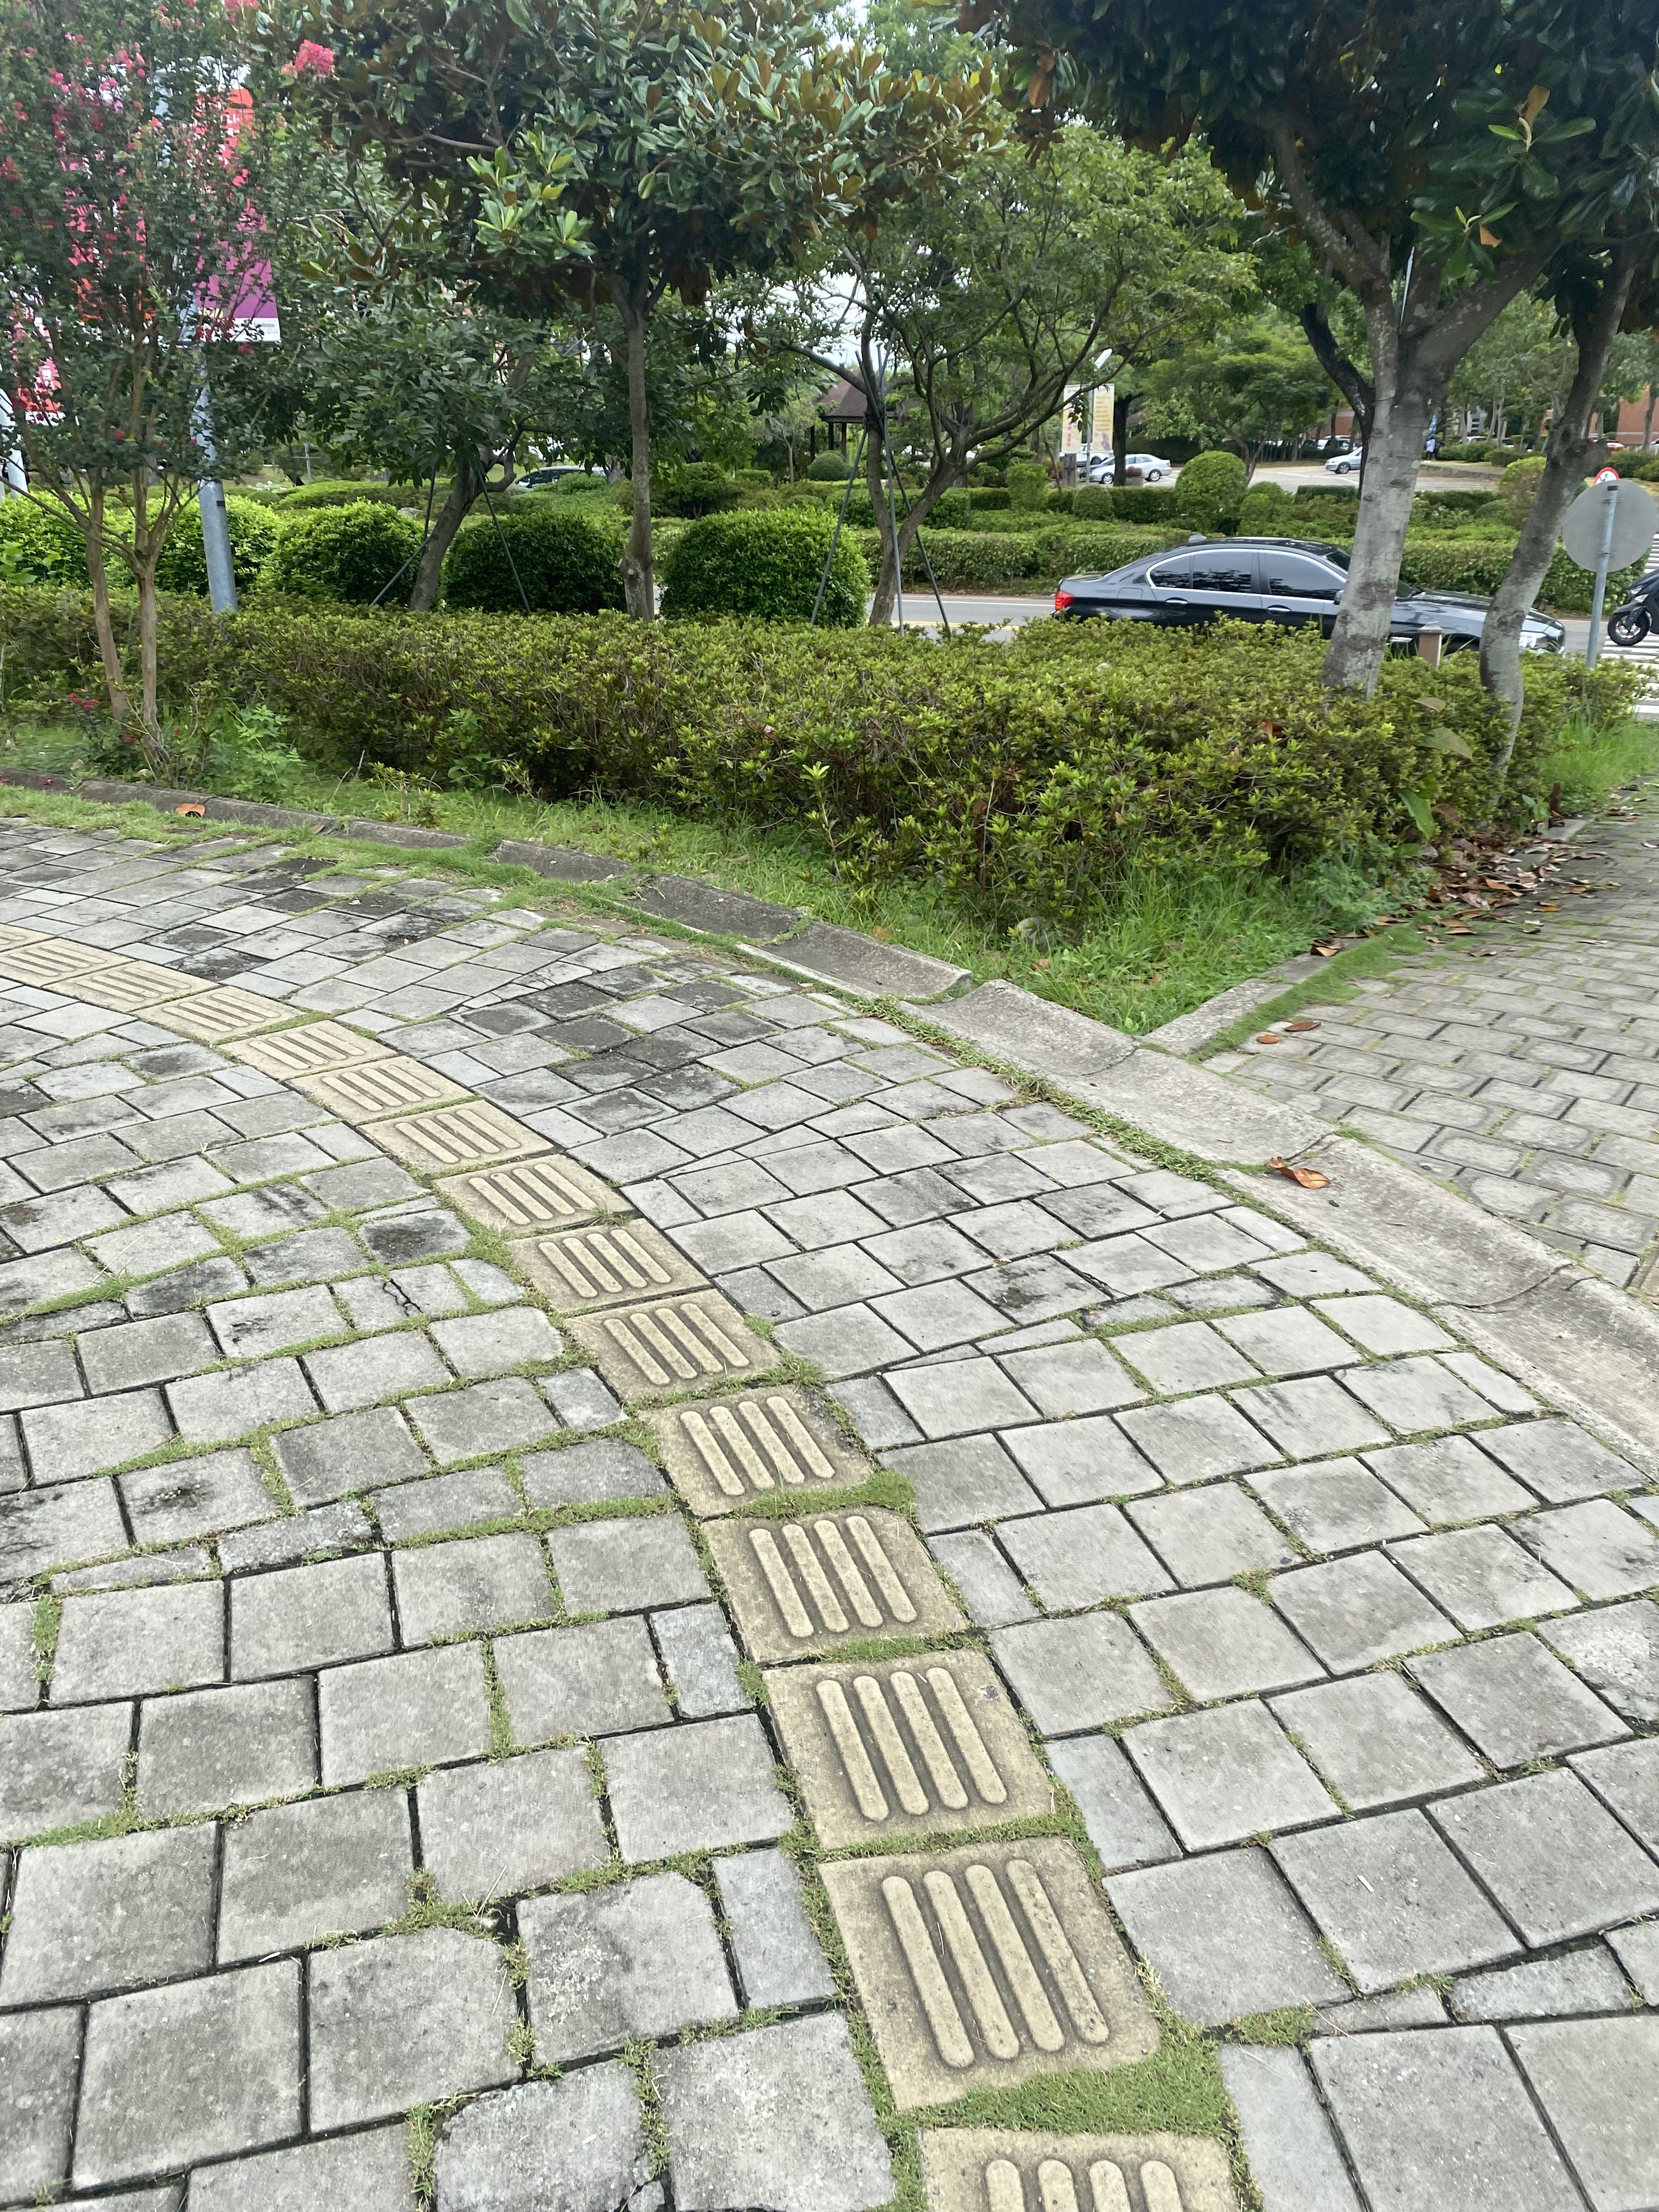sidewalk: (0, 738, 1659, 2212)
